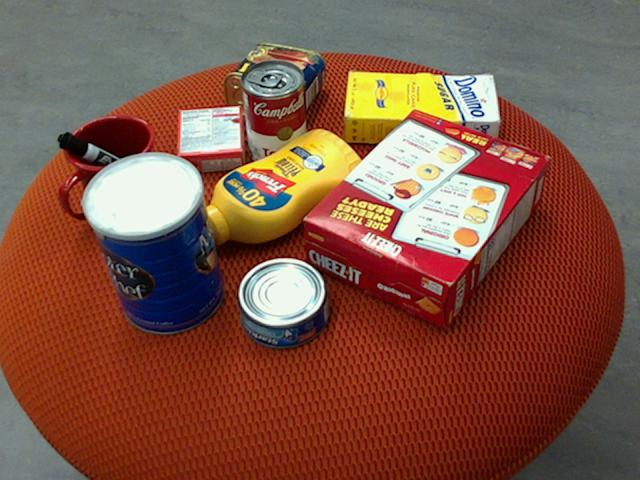cracker_box: (303, 108, 552, 327)
gelatin_box: (176, 104, 243, 174)
large_marker: (56, 131, 159, 193)
master_chef_can: (78, 152, 224, 335)
mug: (60, 114, 163, 223)
mustard_bottle: (186, 128, 367, 244)
potted_meat_can: (224, 43, 326, 124)
sugar_box: (344, 72, 501, 144)
tomato_soup_can: (240, 58, 306, 169)
tuna_fish_can: (237, 258, 330, 349)
